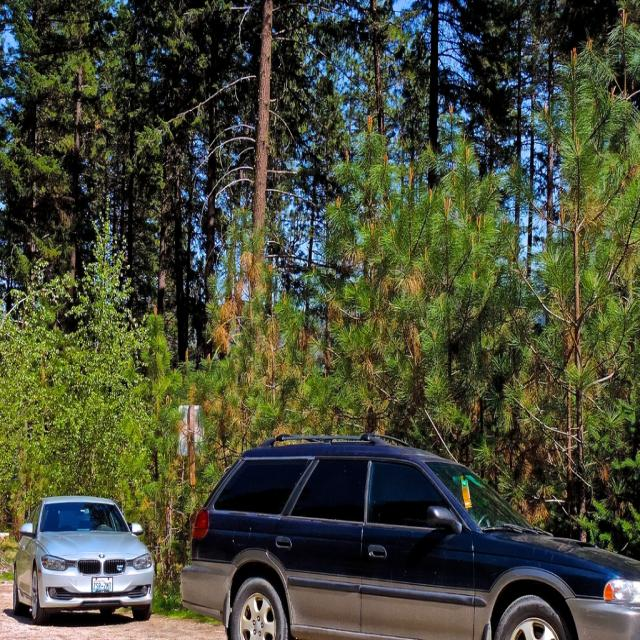car: (139, 438, 639, 639), (14, 494, 152, 617)
